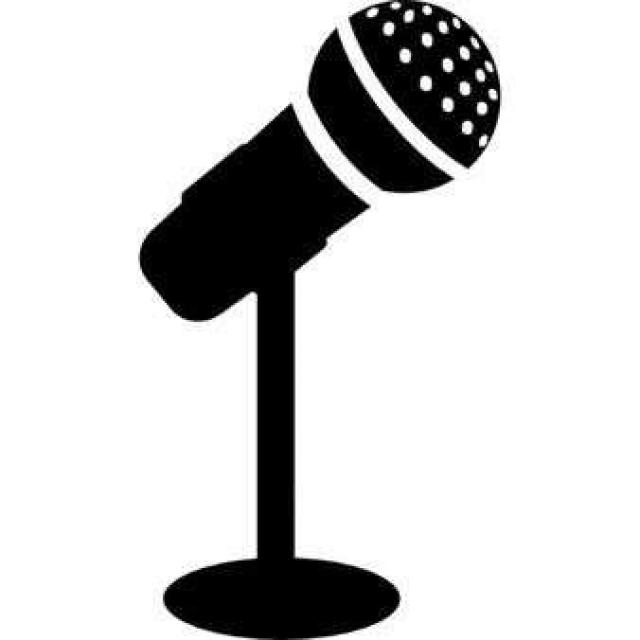microphone: (148, 2, 496, 320)
